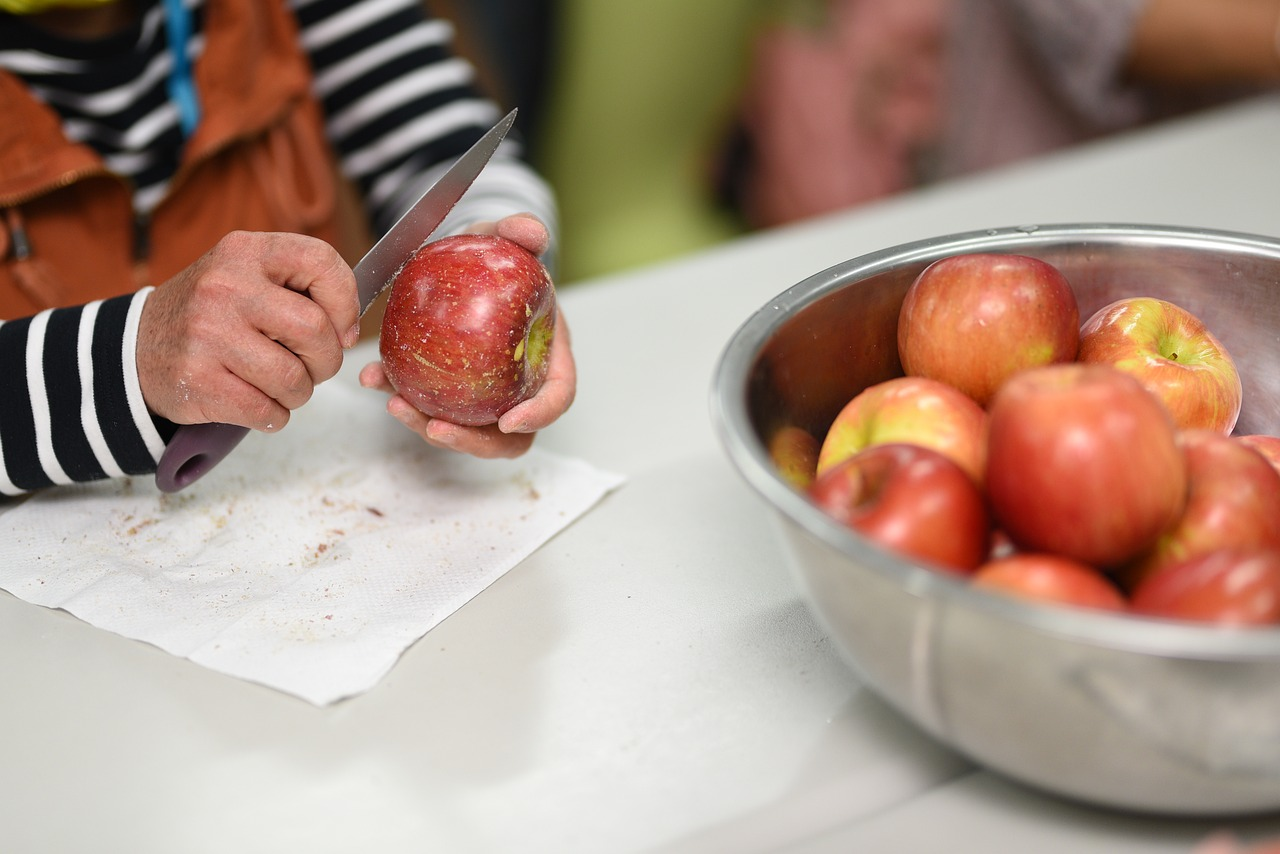knife: (138, 104, 531, 504)
